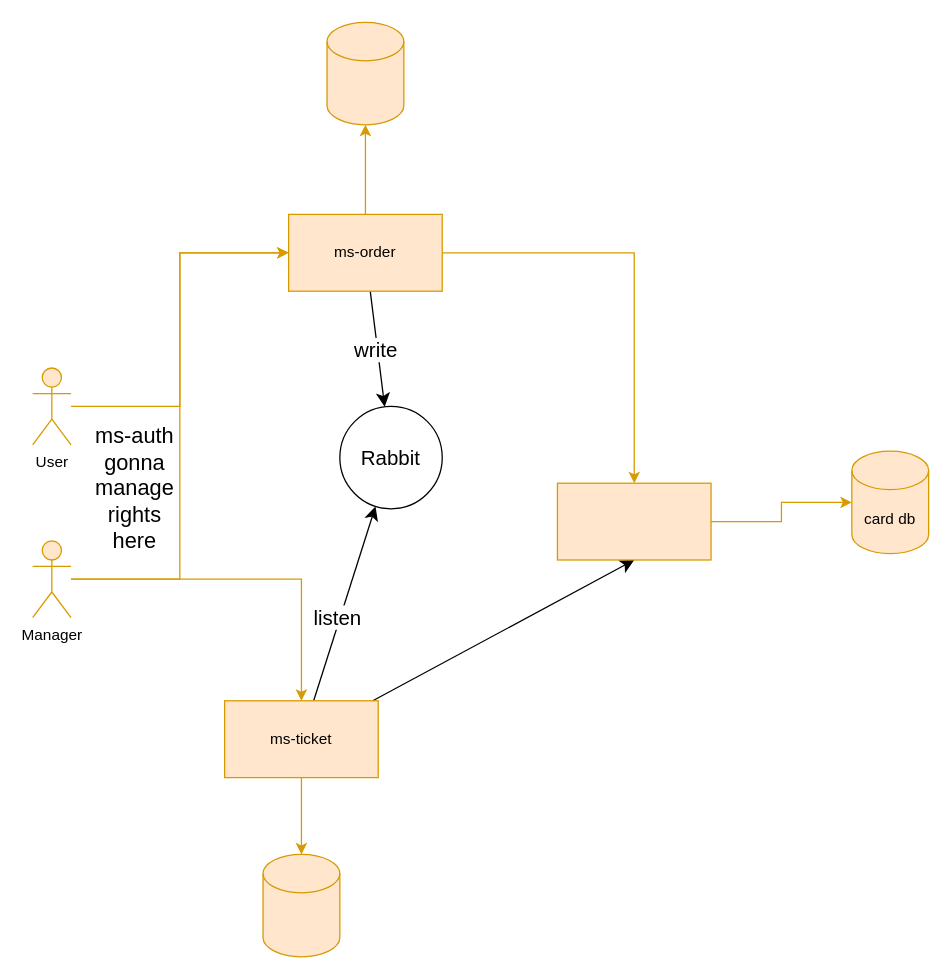
Some shapes in this 951 by 979 pixel diagram are drawn without their labels. Here are the shapes that lost their labels. From the top down, the box of each, then its label:
(326, 21, 404, 125): order db
(556, 482, 711, 560): ms-cards
(262, 853, 340, 957): ticket db
